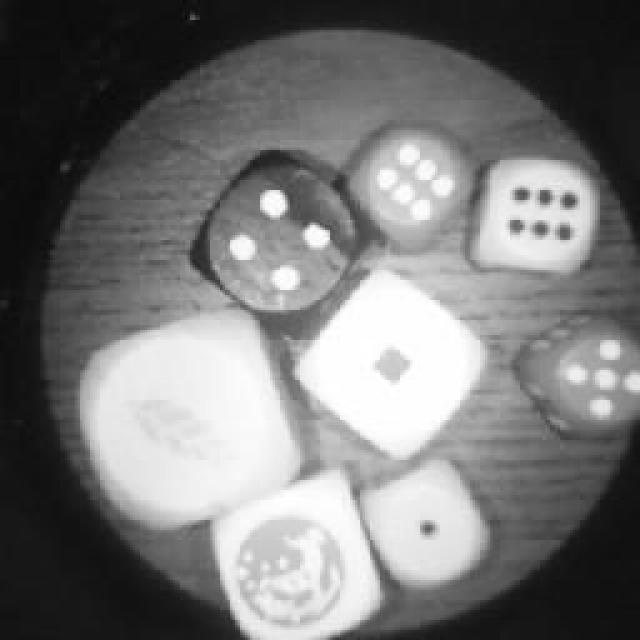dice_1: (352, 452, 508, 600)
dice_4: (185, 138, 375, 342)
dice_5: (515, 305, 640, 447)
dice_6: (335, 110, 483, 260), (468, 153, 608, 285)
